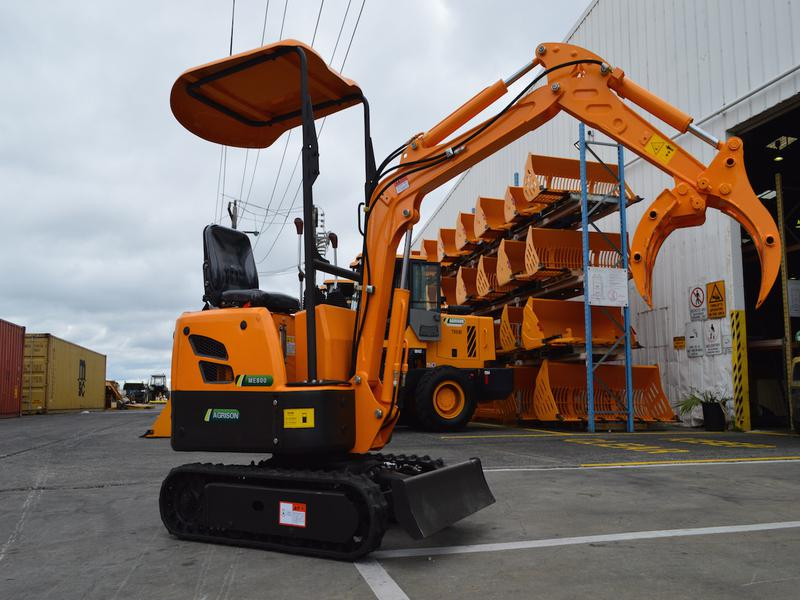shovel: (162, 37, 787, 576)
